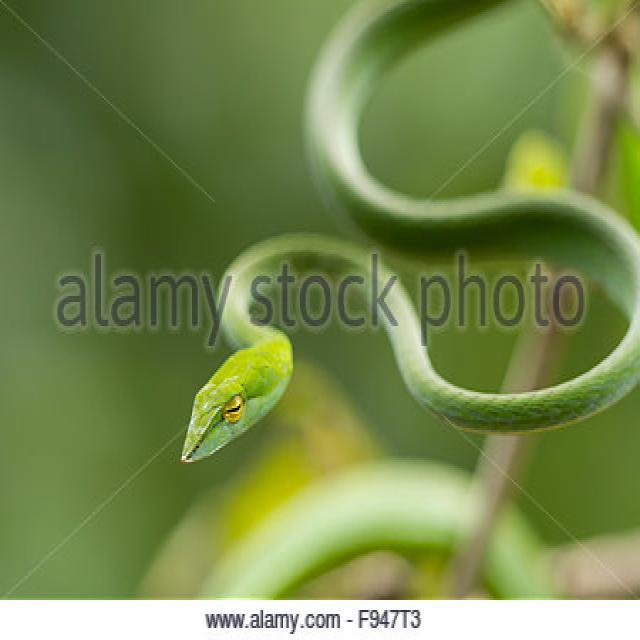Snake: (179, 0, 639, 466)
